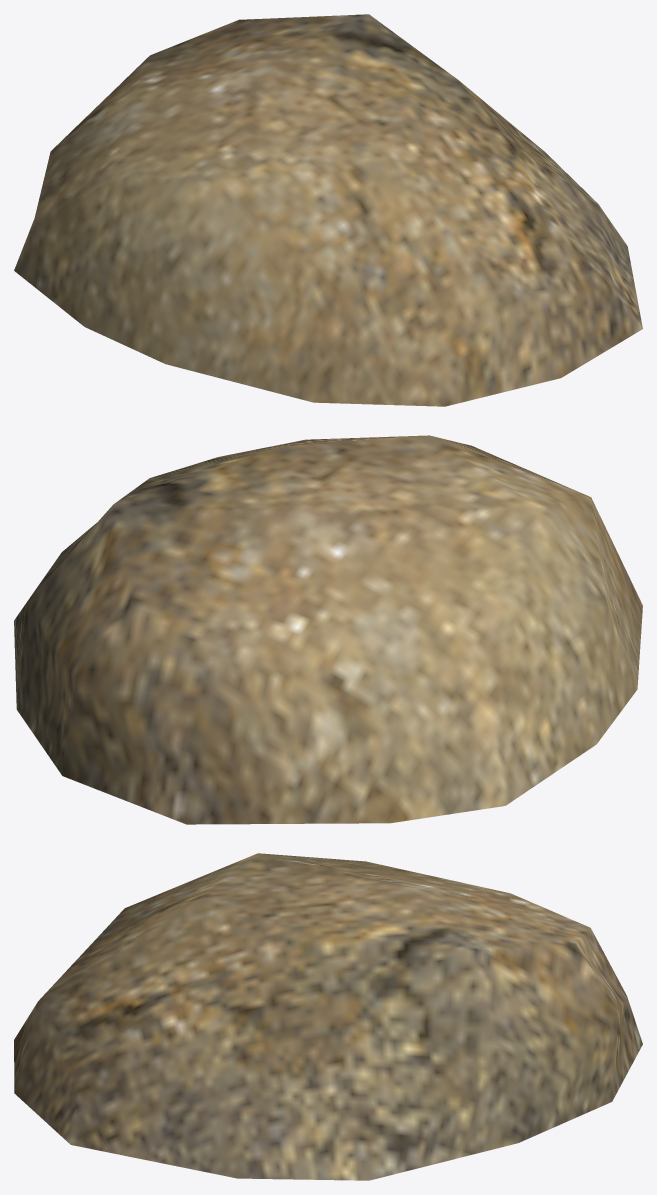
Rendered from TER_Stones_2.FBX.
3 renders of one model, top to bottom at view 1: azimuth 30°, elevation 25°; view 2: azimuth 150°, elevation 25°; view 3: azimuth 270°, elevation 25°, orthographic. The views are drawn at different scales.
Visible parts, largest first — view 1: Stone; view 2: Stone; view 3: Stone.
Boxes of the visible parts, x1,y1,x2,y2 form: Stone: (14, 14, 642, 406); Stone: (14, 435, 642, 824); Stone: (14, 853, 642, 1180).
Size of the model in its own units: 18.47 by 6.28 by 21.59.
